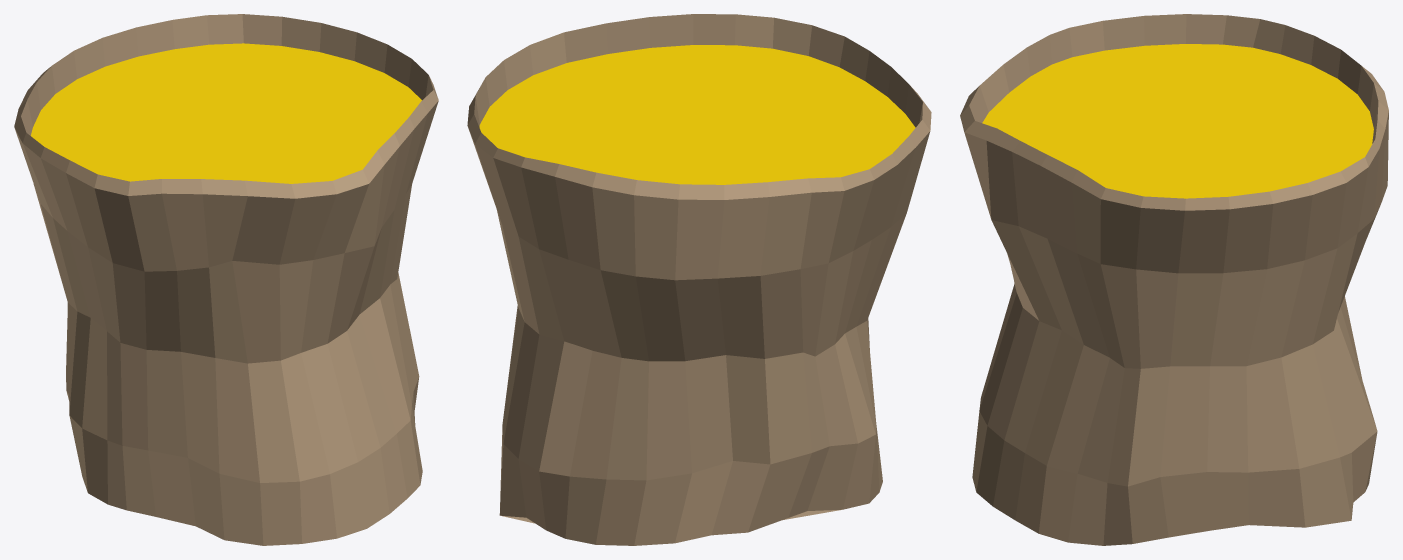
File: GoldBag.fbx
The picture shows the model from 3 angles, left to right: view 1: azimuth 30°, elevation 25°; view 2: azimuth 150°, elevation 25°; view 3: azimuth 270°, elevation 25°; orthographic projection. The views are drawn at different scales.
Visible parts, largest first — view 1: Cylinder; view 2: Cylinder; view 3: Cylinder.
Boxes of the visible parts, box(x1,y1,x2,y2) form: Cylinder: box(14, 14, 438, 545); Cylinder: box(467, 14, 931, 545); Cylinder: box(960, 14, 1388, 545).
Size of the model in its own units: 30.05 by 28.13 by 29.03.
